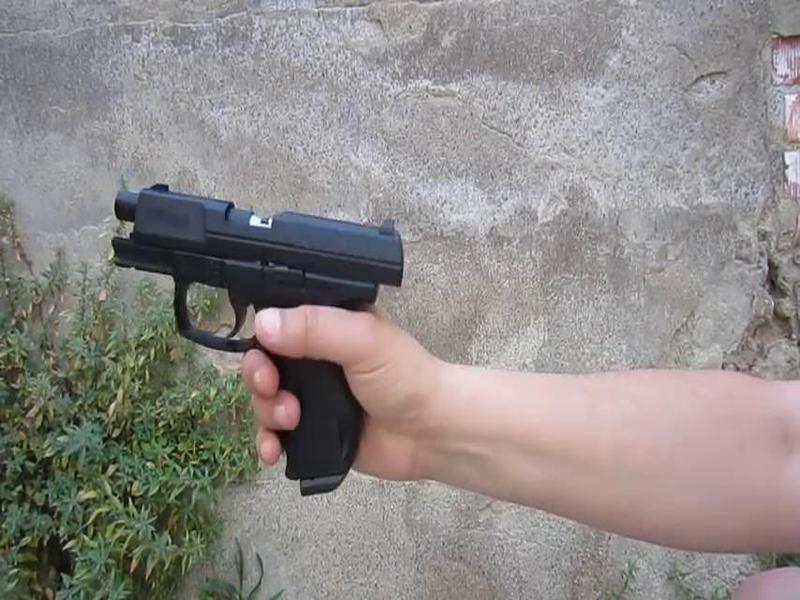Pistola: (86, 171, 407, 490)
